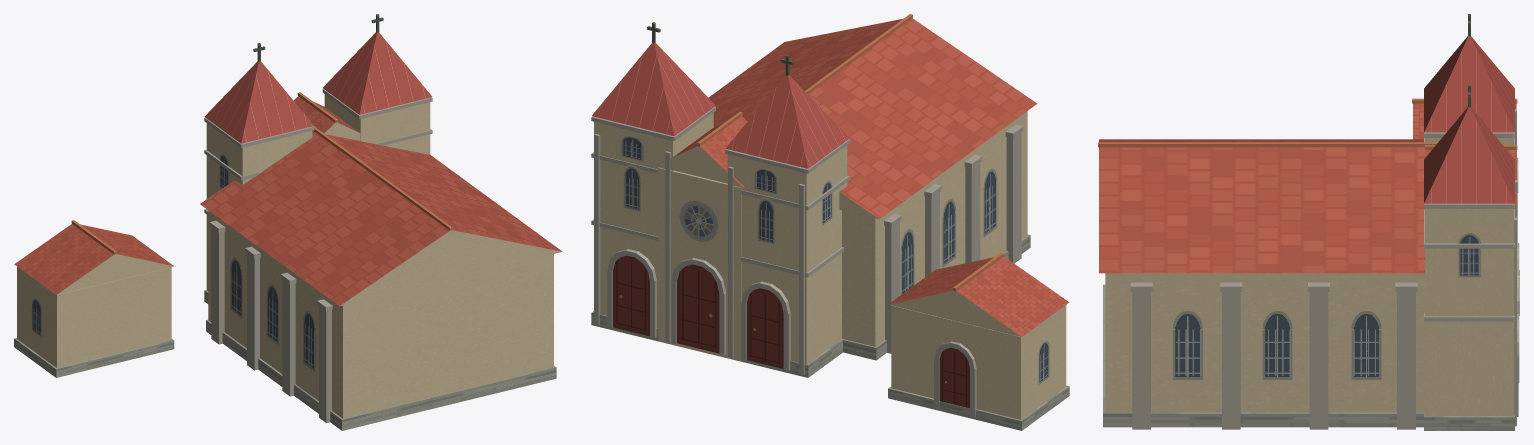
Rendered from SM_QD_CatholicChurch_L1.fbx.
3 views of the same model, side by side, from view 1: azimuth 30°, elevation 25°; view 2: azimuth 150°, elevation 25°; view 3: azimuth 270°, elevation 25° (orthographic). The views are drawn at different scales.
Parts seen in each view (by area): view 1: SM_QD_CatholicChurch_L1; view 2: SM_QD_CatholicChurch_L1; view 3: SM_QD_CatholicChurch_L1.
Part boxes in pixels (x1,y1,x2,y2): SM_QD_CatholicChurch_L1: (14,14,562,430); SM_QD_CatholicChurch_L1: (591,14,1069,430); SM_QD_CatholicChurch_L1: (1098,14,1519,430).
Size of what is drawn, in the model's own units: 12.99 by 10.11 by 8.56.
1 material, 1 textured.
